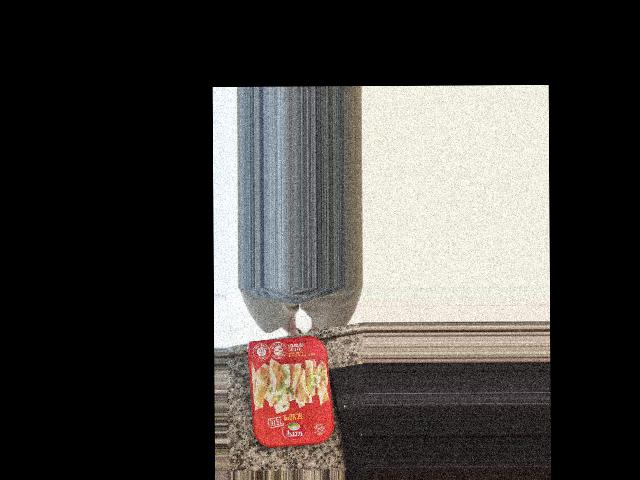cheese: (244, 334, 332, 444)
